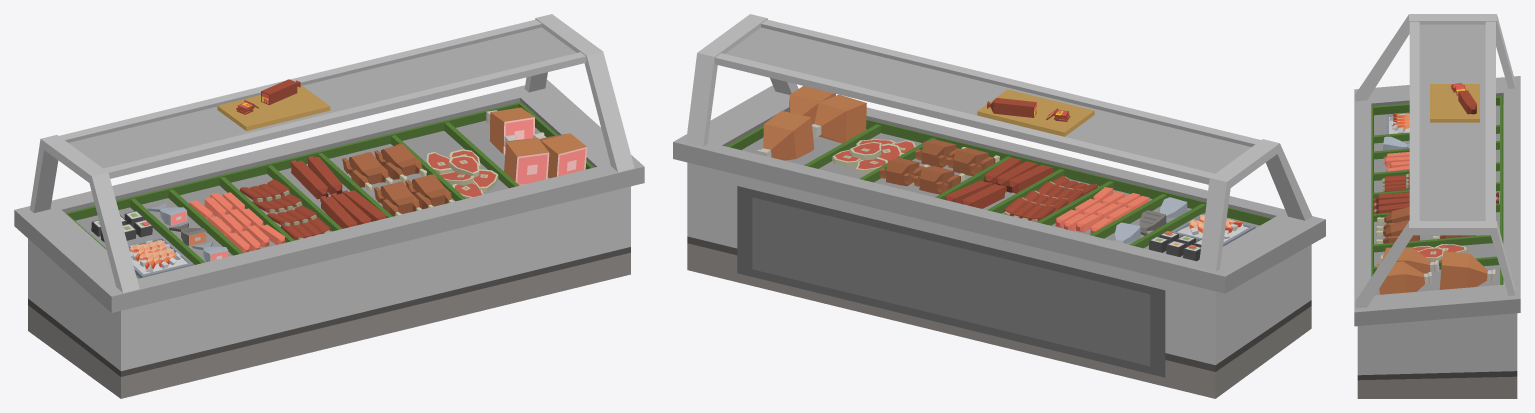
Rendered from ButcherCounter.glb.
The picture shows the model from 3 angles, left to right: view 1: azimuth 30°, elevation 25°; view 2: azimuth 150°, elevation 25°; view 3: azimuth 270°, elevation 25°; orthographic projection. The views are drawn at different scales.
Parts seen in each view (by area): view 1: SI_Prop_ButcherCounter_01; view 2: SI_Prop_ButcherCounter_01; view 3: SI_Prop_ButcherCounter_01.
Part boxes in pixels (<box>): SI_Prop_ButcherCounter_01: <box>14,14,644,398</box>; SI_Prop_ButcherCounter_01: <box>673,14,1325,398</box>; SI_Prop_ButcherCounter_01: <box>1354,14,1520,398</box>.
Bounding box in the file's own units: 0.0694 × 0.0262 × 0.0219.
1 material, 1 textured.
